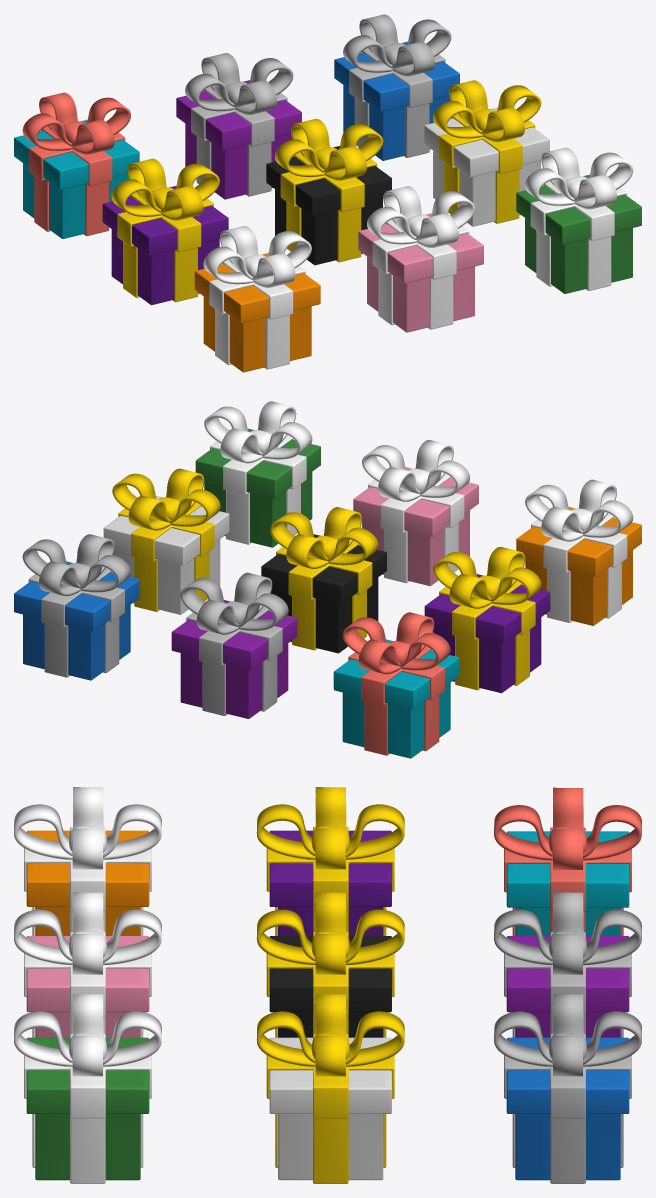
File: regalo221.fbx
3 renders of one model, top to bottom at view 1: azimuth 30°, elevation 25°; view 2: azimuth 150°, elevation 25°; view 3: azimuth 270°, elevation 25°, orthographic. The views are drawn at different scales.
Visible parts, largest first — view 1: Gift_Out.005, Gift_Base.002, Gift_Out.003, Gift_Base.013, Gift_Base.012, Gift_Base, Gift_Base.010, Gift_Base.004, Gift_Base.006, Ties1.001, Ties1.007, Ties1.002 (+7 smaller); view 2: Gift_Base.010, Gift_Base.004, Gift_Out.005, Gift_Base.013, Gift_Out.003, Gift_Base.002, Gift_Base.012, Gift_Base, Gift_Base.006, Ties1.008, Ties1.005, Ties1.002 (+7 smaller); view 3: Gift_Base, Gift_Base.002, Gift_Base.004, Gift_Base.013, Gift_Out.005, Gift_Base.012, Gift_Out.003, Gift_Base.010, Ties1, Ties1.003, Ties1.006, Ties1.007 (+7 smaller).
Boxes of the visible parts, x1,y1,x2,y2 form: Gift_Out.005: [194, 253, 320, 372]; Gift_Base.002: [516, 174, 641, 293]; Gift_Out.003: [358, 213, 483, 332]; Gift_Base.013: [102, 185, 228, 305]; Gift_Base.012: [266, 146, 391, 265]; Gift_Base: [424, 107, 549, 226]; Gift_Base.010: [176, 80, 301, 199]; Gift_Base.004: [334, 41, 459, 160]; Gift_Base.006: [14, 119, 139, 238]; Ties1.001: [343, 14, 451, 76]; Ties1.007: [203, 226, 311, 287]; Ties1.002: [525, 147, 633, 209]; Gift_Base.010: [171, 600, 297, 718]; Gift_Base.004: [14, 561, 139, 680]; Gift_Out.005: [516, 506, 641, 625]; Gift_Base.013: [424, 574, 550, 693]; Gift_Out.003: [353, 467, 478, 586]; Gift_Base.002: [195, 428, 320, 547]; Gift_Base.012: [261, 534, 386, 653]; Gift_Base: [103, 495, 229, 614]; Gift_Base.006: [333, 639, 459, 758]; Ties1.008: [342, 612, 450, 674]; Ties1.005: [180, 572, 288, 634]; Ties1.002: [204, 401, 312, 463]; Gift_Base: [266, 1033, 394, 1183]; Gift_Base.002: [24, 1033, 151, 1183]; Gift_Base.004: [504, 1033, 631, 1183]; Gift_Base.013: [266, 826, 394, 935]; Gift_Out.005: [24, 826, 151, 935]; Gift_Base.012: [266, 932, 394, 1037]; Gift_Out.003: [24, 932, 151, 1037]; Gift_Base.010: [504, 932, 631, 1037]; Ties1: [256, 994, 404, 1076]; Ties1.003: [256, 892, 404, 974]; Ties1.006: [256, 787, 404, 869]; Ties1.007: [14, 787, 161, 869].
Size of the model in its own units: 1065 by 264 by 1048.
